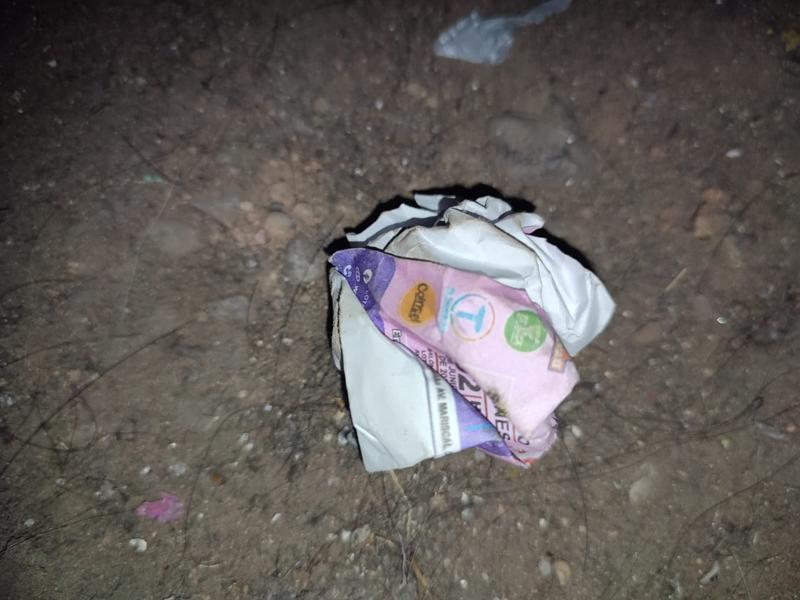papel: (323, 184, 616, 474)
